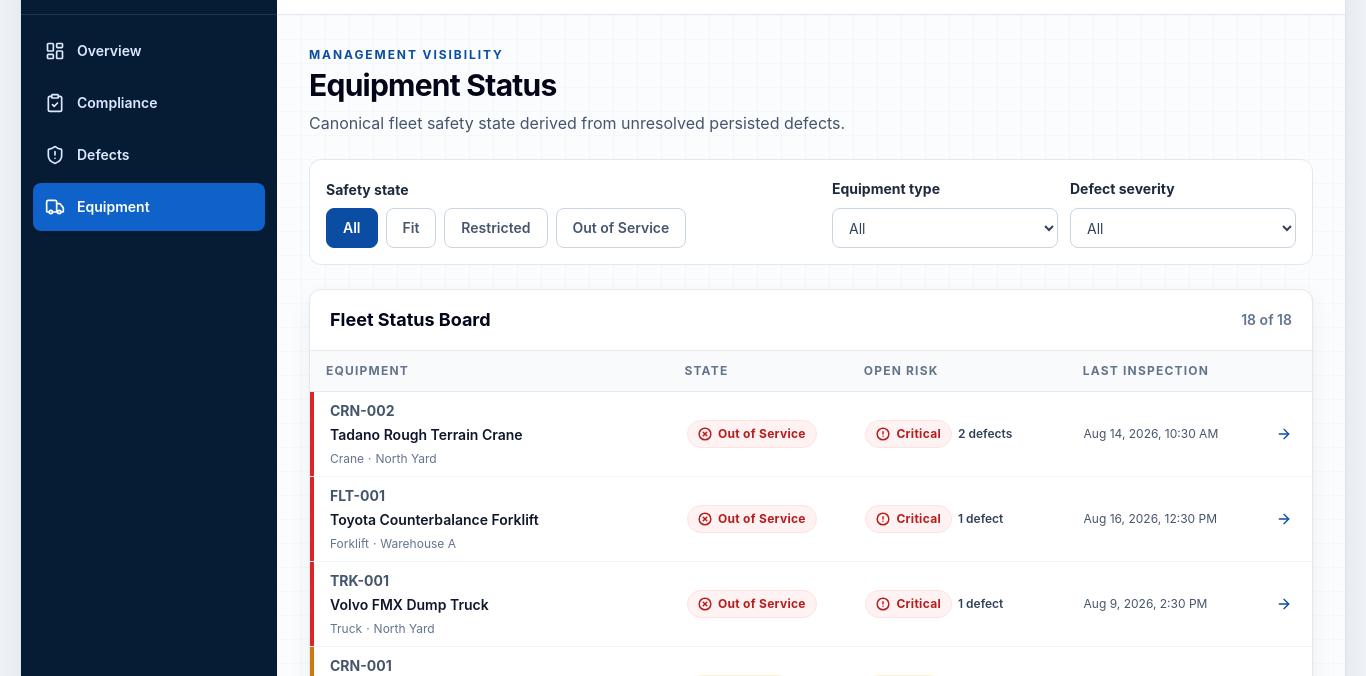
it: Manager read-only views › renders the status board and equipment detail without transactional controls
This screenshot has width=1366, height=676.
Expected: the heading "Equipment Status" is shown, [309,67,556,103]
Expected: the heading "Fleet Status Board" is shown, [330,306,491,334]
Click the button "Out of Service" at (621, 228), box [556,208,686,248]
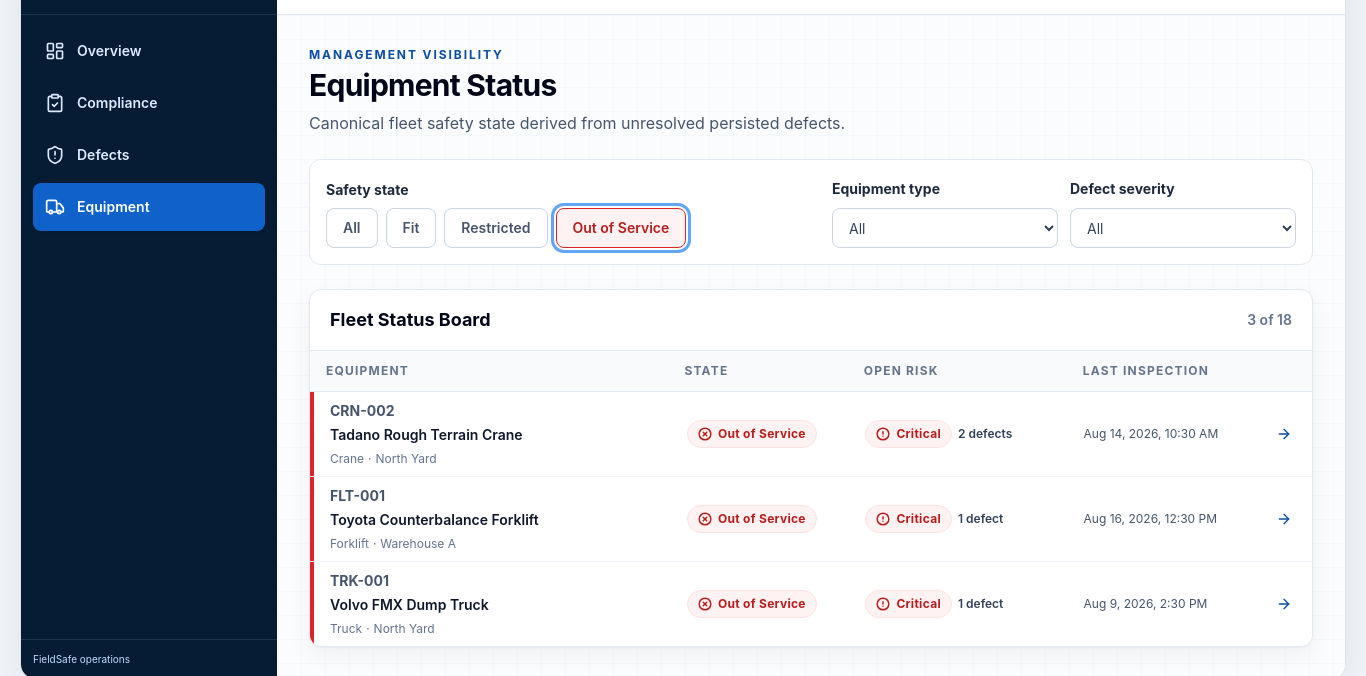
Expected: the dropdown labelled "Equipment type" is shown, [832,208,1058,248]
Result: the button "Out of Service" is pressed at [556,208,686,248]
Result: the button "Out of Service" has class "bg-danger-50" at [556,208,686,248]
Click the link with aria-label "View TRK-001" at (811, 604), box [310,562,1312,646]
(page scrolled)
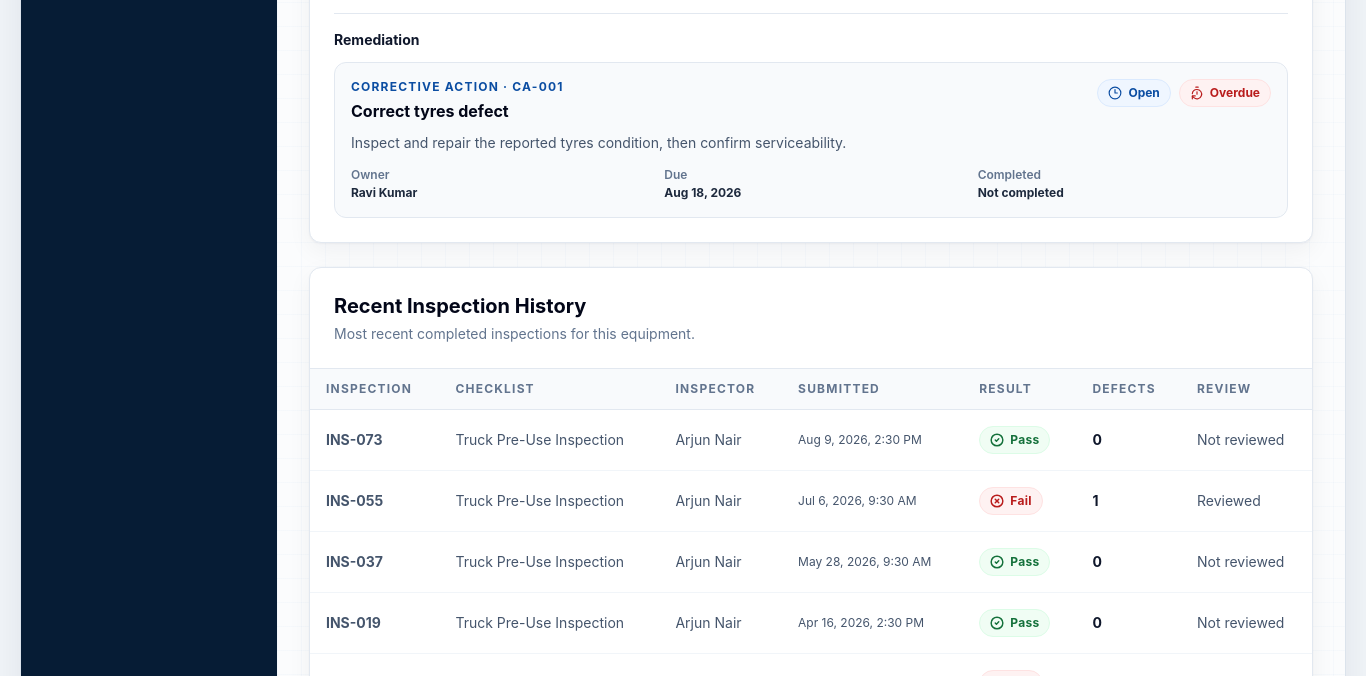
Result: the heading "Recent Inspection History" is shown at [334,294,586,318]
